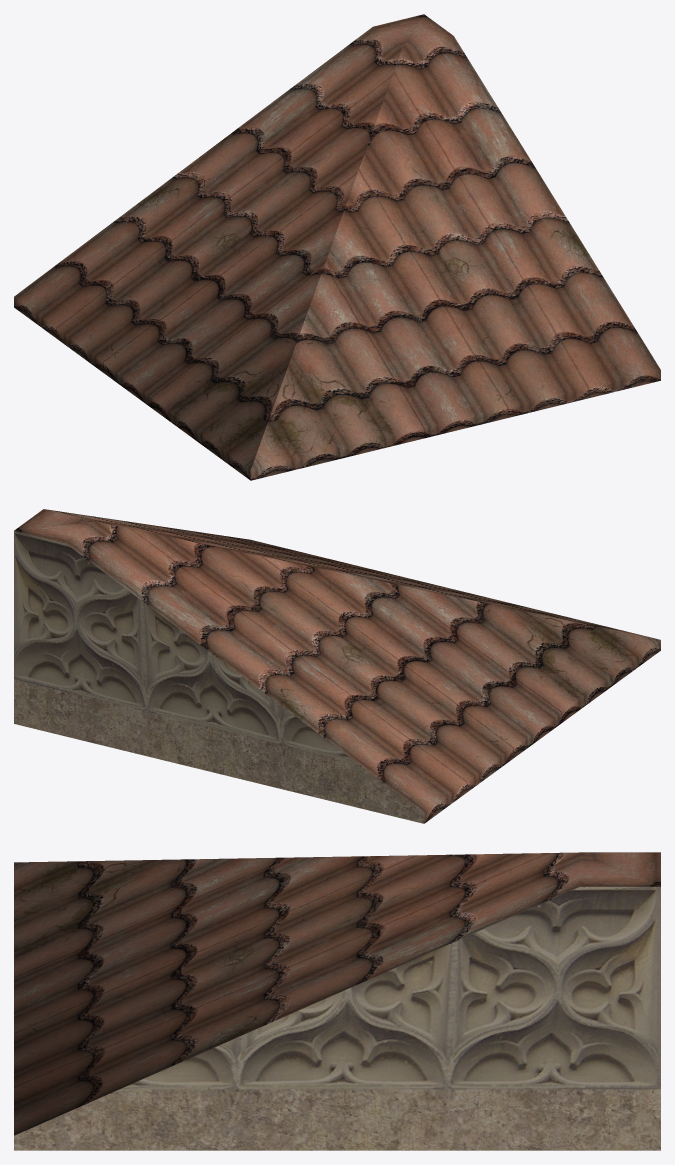
Rendered from SH3D_Sparta_Roof3.obj.
The picture shows the model from 3 angles, top to bottom: view 1: azimuth 30°, elevation 25°; view 2: azimuth 150°, elevation 25°; view 3: azimuth 270°, elevation 25°; orthographic projection. The views are drawn at different scales.
Visible parts, largest first — view 1: Base_TileRoof0; view 2: Base_TileRoof0, Base_RoofTrim0; view 3: Base_RoofTrim0, Base_TileRoof0.
Boxes of the visible parts, <box> form: Base_TileRoof0: <box>14,14,660,480</box>; Base_TileRoof0: <box>14,509,660,823</box>; Base_RoofTrim0: <box>14,530,424,823</box>; Base_RoofTrim0: <box>14,886,660,1150</box>; Base_TileRoof0: <box>14,852,660,1135</box>.
Bounding box in the file's own units: 2 × 0.9 × 2.
